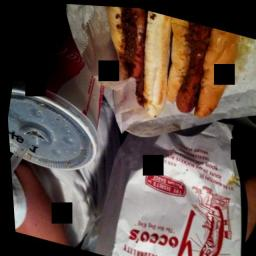hotdog: (86, 4, 182, 118), (154, 14, 244, 125)
